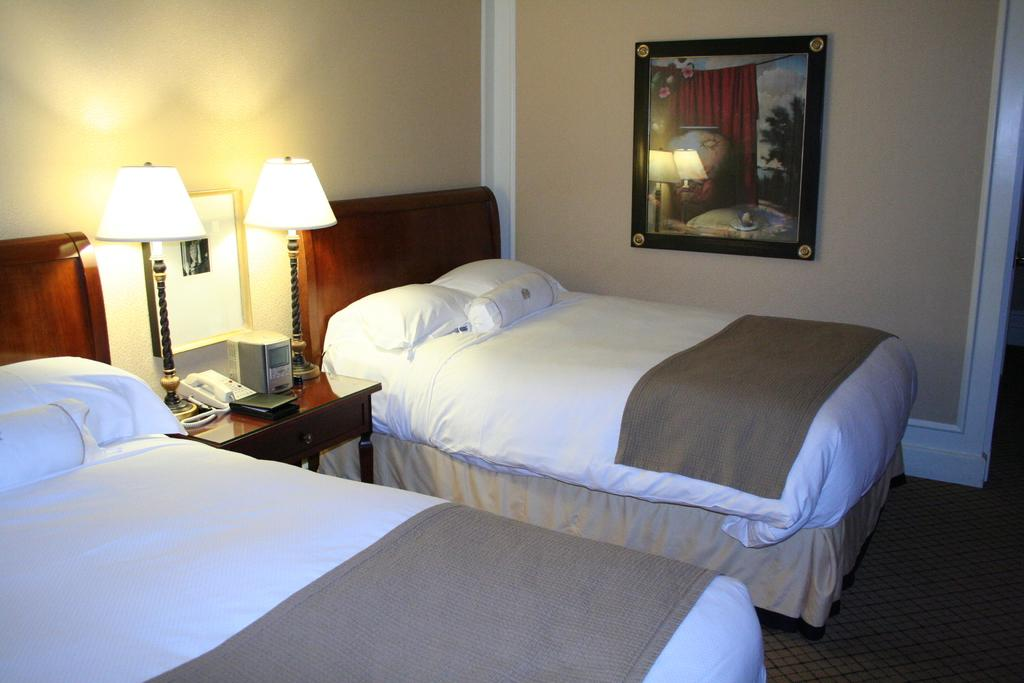cabinet_door: (246, 425, 364, 454)
handle: (302, 429, 314, 446)
